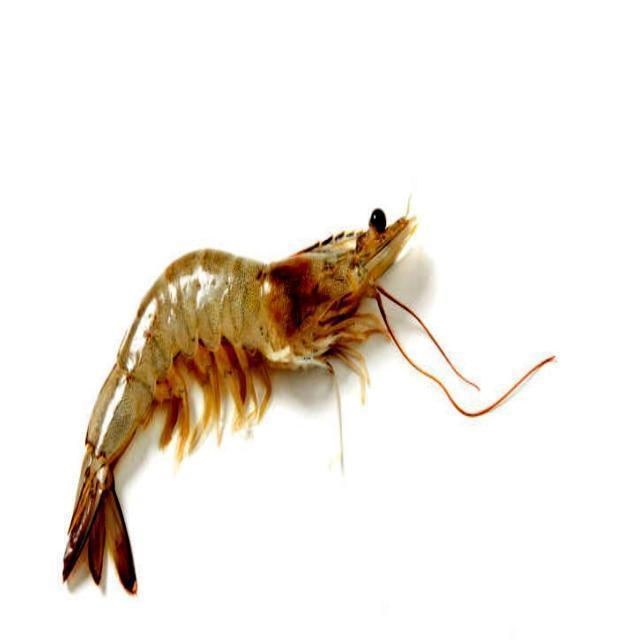shrimp: (63, 212, 415, 592)
